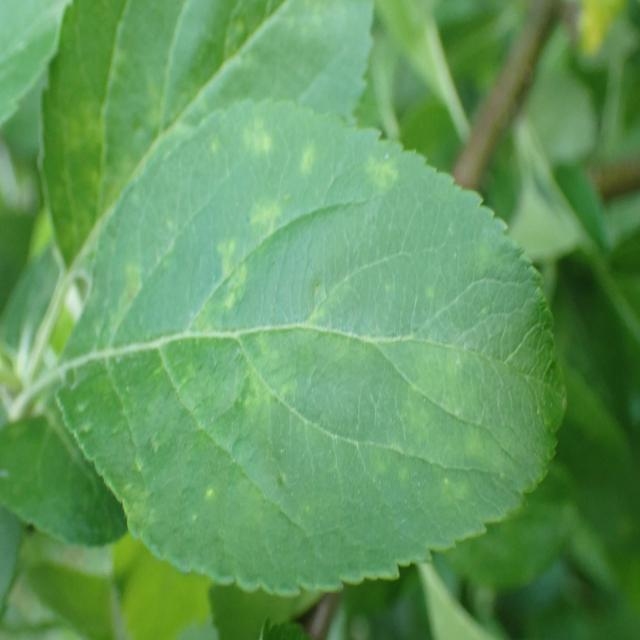scab: (74, 114, 544, 557)
